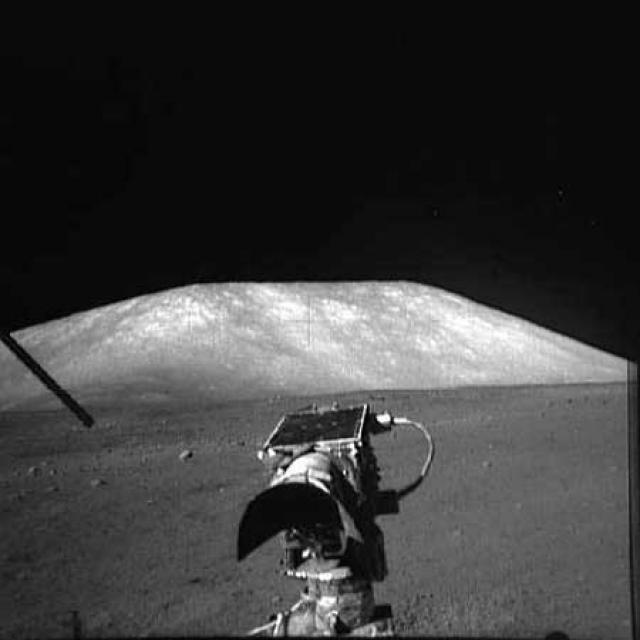artifact: (232, 397, 445, 638), (0, 324, 97, 437)
rock: (170, 449, 202, 465), (90, 474, 112, 492)
